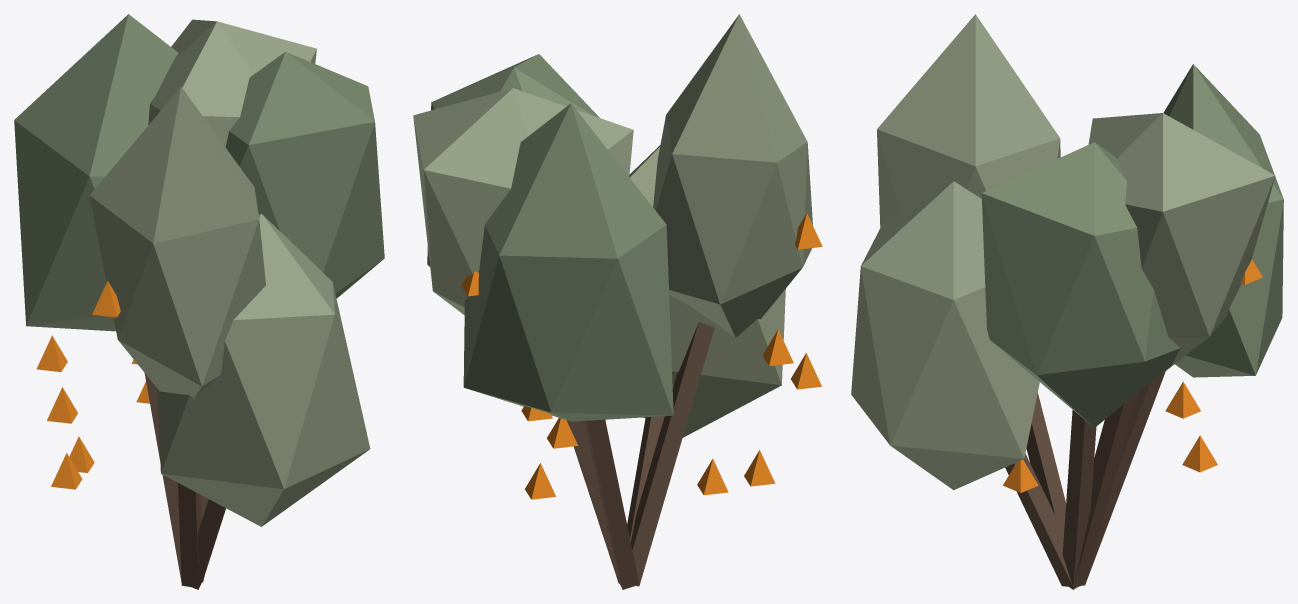
Rendered from havtorn_1.glb.
3 views of the same model, side by side, from view 1: azimuth 30°, elevation 25°; view 2: azimuth 150°, elevation 25°; view 3: azimuth 270°, elevation 25° (orthographic).
Visible parts, largest first — view 1: havtorn_1; view 2: havtorn_1; view 3: havtorn_1.
Part boxes in pixels (box(x1,y1,x2,y2)): havtorn_1: box(14, 14, 384, 589); havtorn_1: box(413, 14, 822, 589); havtorn_1: box(851, 14, 1283, 589).
Bounding box in the file's own units: 1.62 × 2.4 × 1.73.
